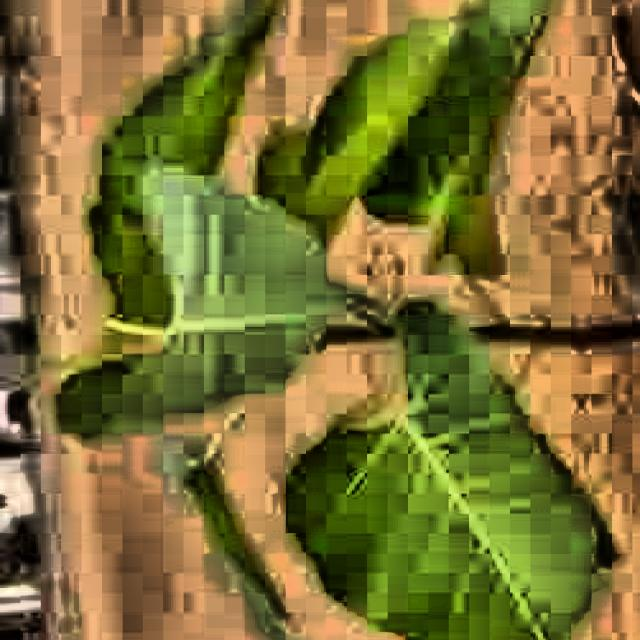Ficus Religiosa-Raavi-: (2, 1, 640, 639)
